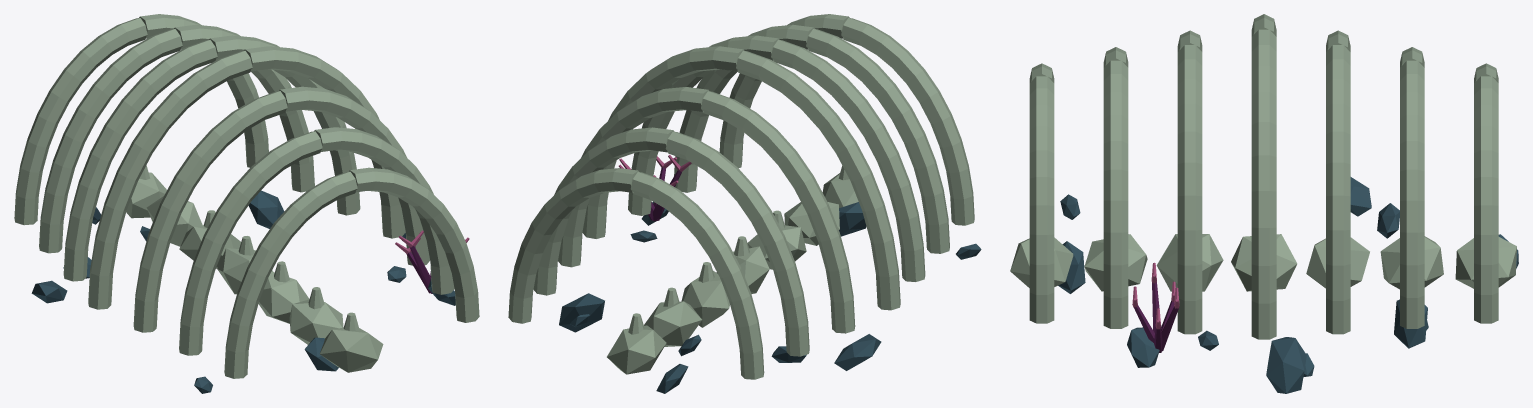
File: 05_giant_ribcage.glb
3 renders of one model, left to right at view 1: azimuth 30°, elevation 25°; view 2: azimuth 150°, elevation 25°; view 3: azimuth 270°, elevation 25°, orthographic. The views are drawn at different scales.
Visible parts, largest first — view 1: GiantRib.006, GiantRib.004, GiantRib.008, GiantRib.002, GiantRib.010, GiantRib, GiantRib.012, GiantRib.001, GiantRib.007, GiantRib.003, GiantRib.005, GiantRib.011 (+12 smaller); view 2: GiantRib.006, GiantRib.008, GiantRib.004, GiantRib.010, GiantRib.002, GiantRib, GiantRib.012, GiantRib.013, GiantRib.009, GiantRib.007, GiantRib.011, GiantRib.003 (+13 smaller); view 3: GiantRib.007, GiantRib.005, GiantRib.009, GiantRib.003, GiantRib.011, GiantRib.001, GiantRib.013, BrokenStone.054, Vertebra.003, Vertebra.002, Vertebra.006, Vertebra.005 (+8 smaller).
Boxes of the visible parts, <box> form: GiantRib.006: <box>88,50,252,309</box>; GiantRib.004: <box>133,91,287,332</box>; GiantRib.008: <box>63,39,217,281</box>; GiantRib.002: <box>179,131,322,355</box>; GiantRib.010: <box>39,28,182,253</box>; GiantRib: <box>224,171,357,378</box>; GiantRib.012: <box>14,18,147,225</box>; GiantRib.001: <box>349,167,479,322</box>; GiantRib.007: <box>244,46,405,238</box>; GiantRib.003: <box>314,127,454,294</box>; GiantRib.005: <box>279,86,429,265</box>; GiantRib.011: <box>174,24,314,192</box>; GiantRib.006: <box>736,50,900,310</box>; GiantRib.008: <box>701,91,855,333</box>; GiantRib.004: <box>771,39,925,281</box>; GiantRib.010: <box>665,131,809,356</box>; GiantRib.002: <box>806,29,949,253</box>; GiantRib: <box>841,18,974,225</box>; GiantRib.012: <box>630,172,764,379</box>; GiantRib.013: <box>508,168,638,323</box>; GiantRib.009: <box>558,87,709,267</box>; GiantRib.007: <box>582,46,744,238</box>; GiantRib.011: <box>533,127,674,295</box>; GiantRib.003: <box>674,24,814,192</box>; GiantRib.007: <box>1251,29,1276,339</box>; GiantRib.005: <box>1177,45,1202,334</box>; GiantRib.009: <box>1326,45,1350,334</box>; GiantRib.003: <box>1103,60,1128,328</box>; GiantRib.011: <box>1400,60,1424,328</box>; GiantRib.001: <box>1029,76,1054,323</box>; GiantRib.013: <box>1474,76,1498,323</box>; BrokenStone.054: <box>1266,337,1306,393</box>; Vertebra.003: <box>1231,234,1297,291</box>; Vertebra.002: <box>1156,234,1223,291</box>; Vertebra.006: <box>1455,237,1516,288</box>; Vertebra.005: <box>1380,236,1443,289</box>.
Bounding box in the file's own units: 8.53 × 5.64 × 9.62.
Materials: 4 (4 with a texture image).
